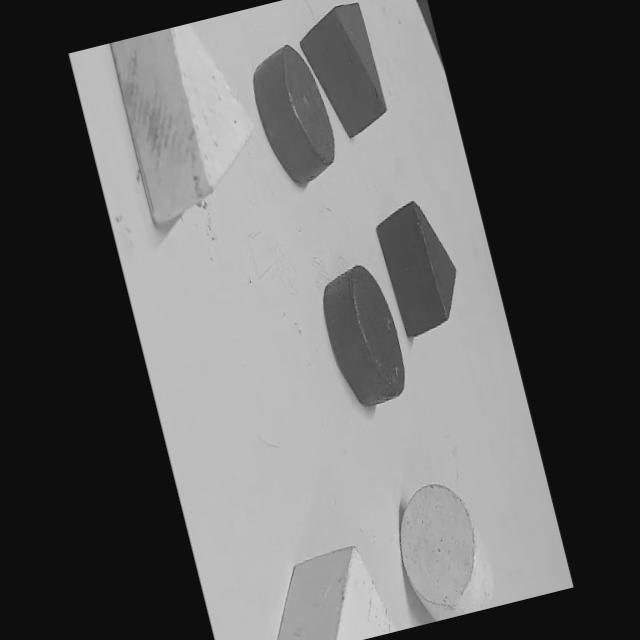bcircle: (312, 255, 414, 414)
btriangle: (370, 192, 469, 341)
rcircle: (242, 37, 343, 193)
rtriangle: (291, 0, 392, 145)
ycircle: (385, 472, 500, 625)
ycube: (244, 534, 401, 640)
ytriangle: (109, 17, 272, 228)
